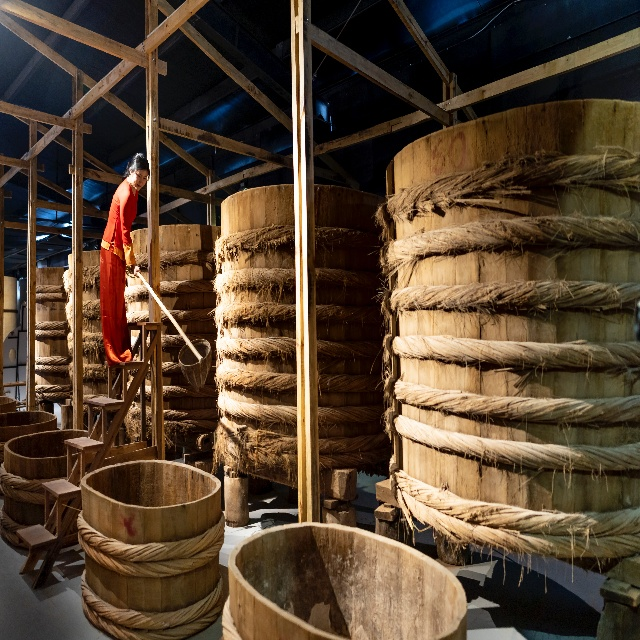Sin_guantes: (132, 264, 141, 278)
